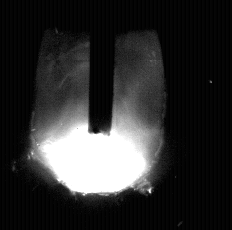arame: (89, 0, 114, 135)
poca: (31, 0, 164, 230)
